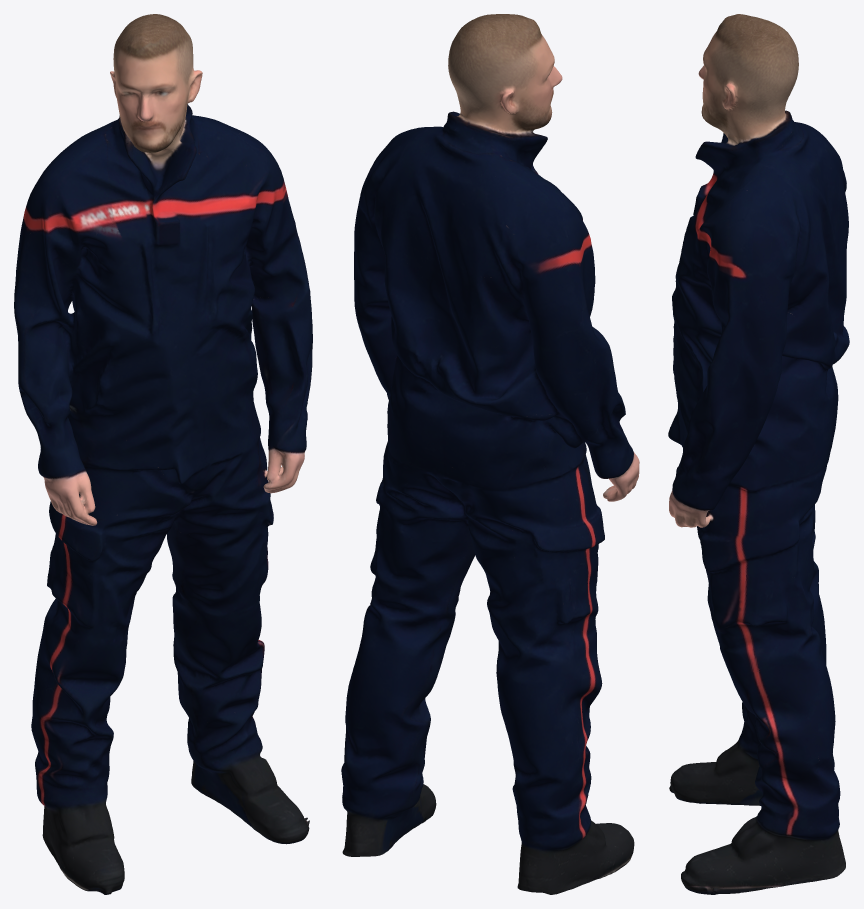
Rendered from pompier.glb.
The picture shows the model from 3 angles, left to right: view 1: azimuth 30°, elevation 25°; view 2: azimuth 150°, elevation 25°; view 3: azimuth 270°, elevation 25°; orthographic projection. The views are drawn at different scales.
Parts seen in each view (by area): view 1: mesh_node; view 2: mesh_node; view 3: mesh_node.
Boxes of the visible parts, x1=… form: mesh_node: x1=14, y1=14, x2=312, y2=894; mesh_node: x1=341, y1=14, x2=639, y2=894; mesh_node: x1=668, y1=14, x2=849, y2=894.
Bounding box in the file's own units: 0.6422 × 1.9 × 0.3838.
1 material, 1 textured.
